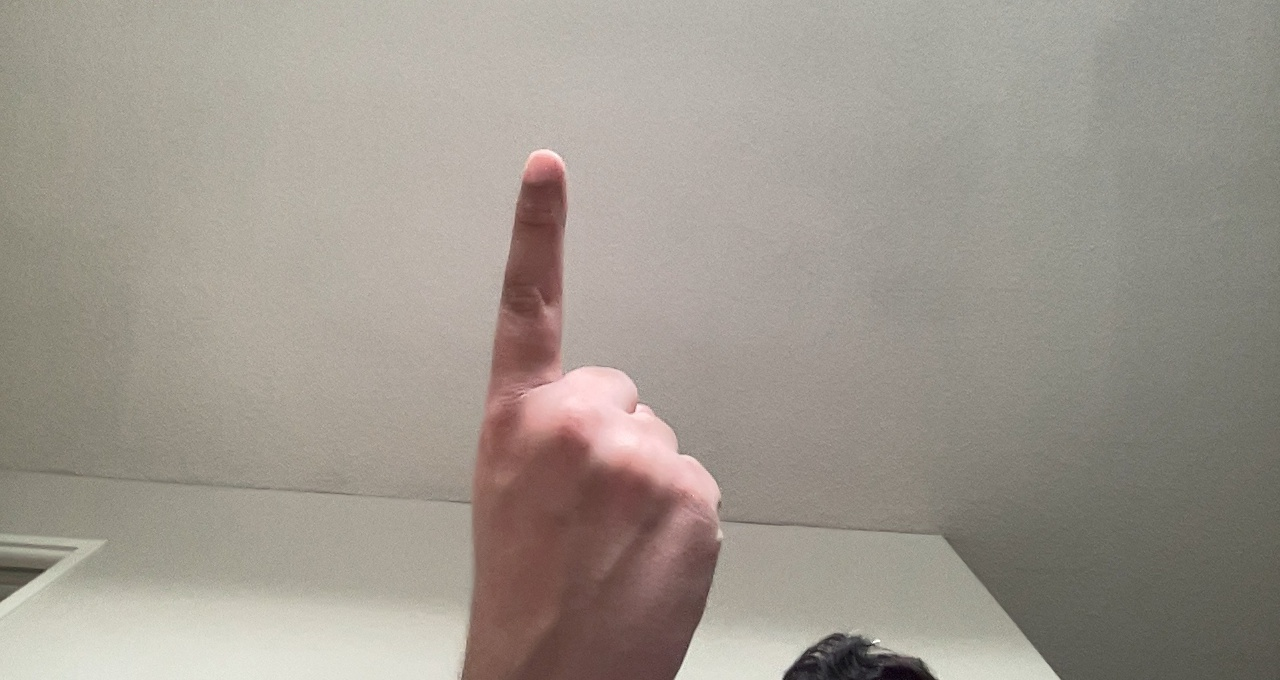fingerup: (468, 139, 740, 661)
